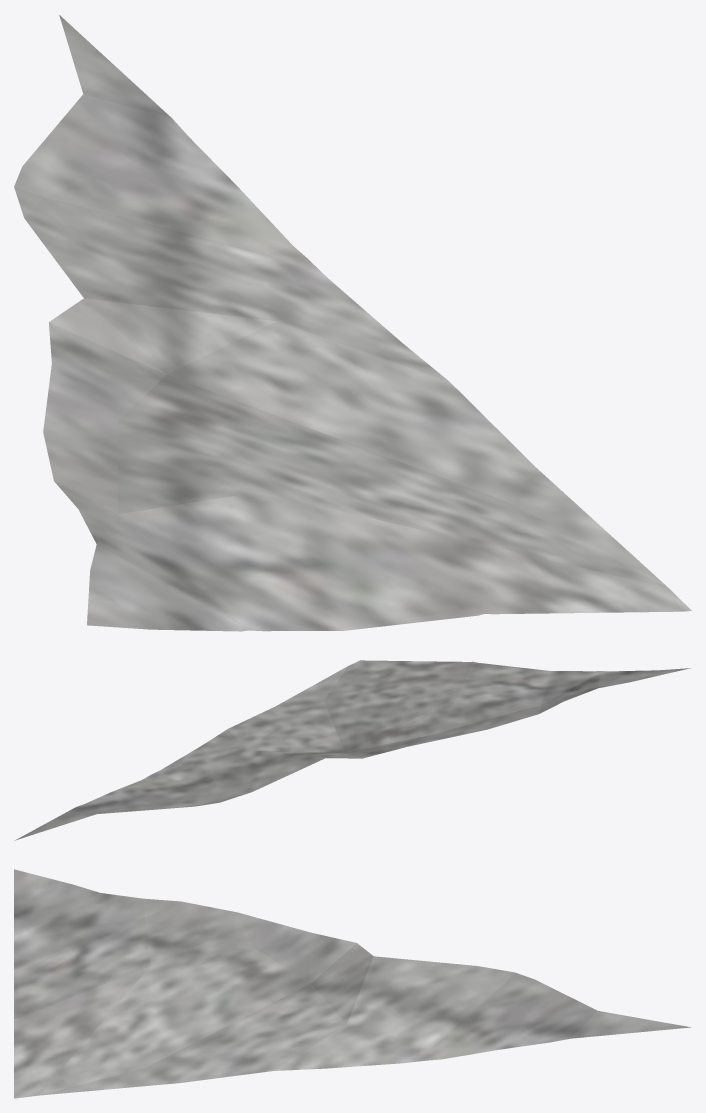
3 views of the same model, one above another, from view 1: azimuth 30°, elevation 25°; view 2: azimuth 150°, elevation 25°; view 3: azimuth 270°, elevation 25° (orthographic). The views are drawn at different scales.
Bounding box in the file's own units: 0.3743 × 0.0787 × 0.6781.
1 material, 1 textured.
